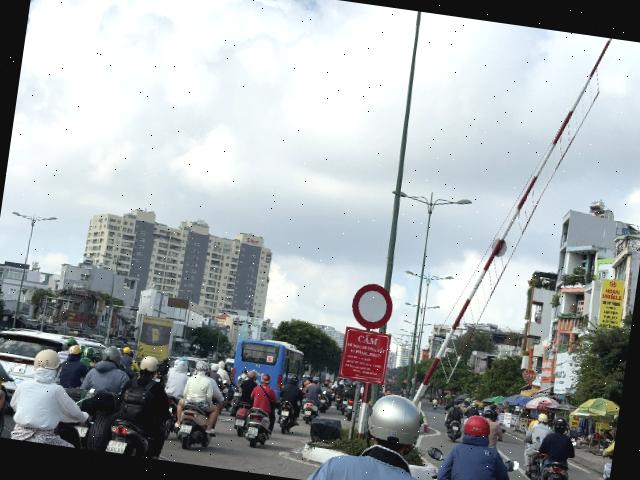duong-cam: (350, 281, 396, 332)
